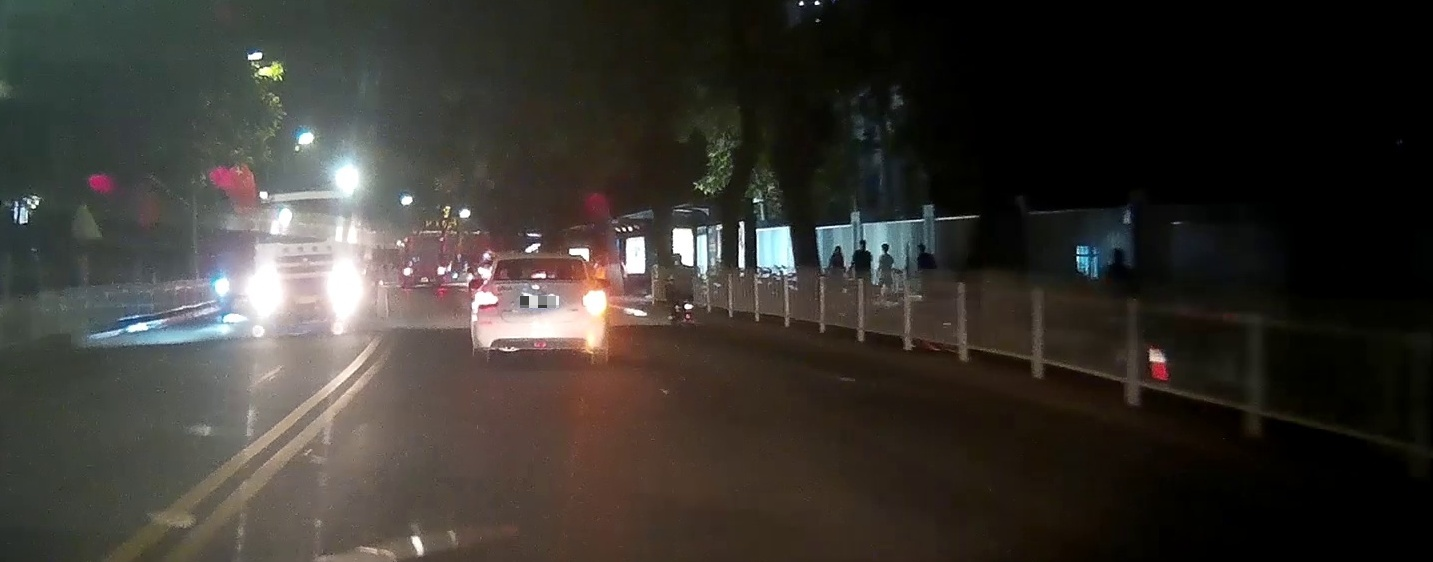L_light: (472, 291, 498, 308)
R_light: (582, 290, 606, 305)
T_light: (531, 273, 555, 279)
night-right: (470, 253, 609, 364)
plate_1: (520, 296, 559, 308)
